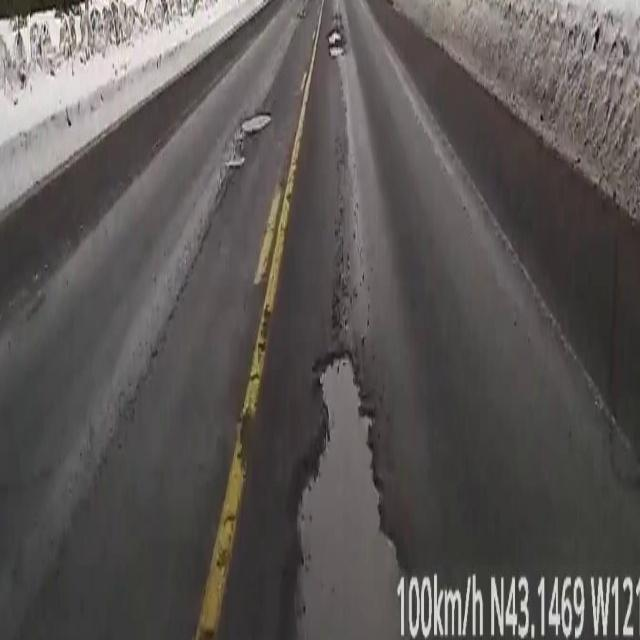pothole: (286, 348, 399, 640), (241, 112, 271, 140), (328, 12, 344, 58), (227, 149, 244, 165)
